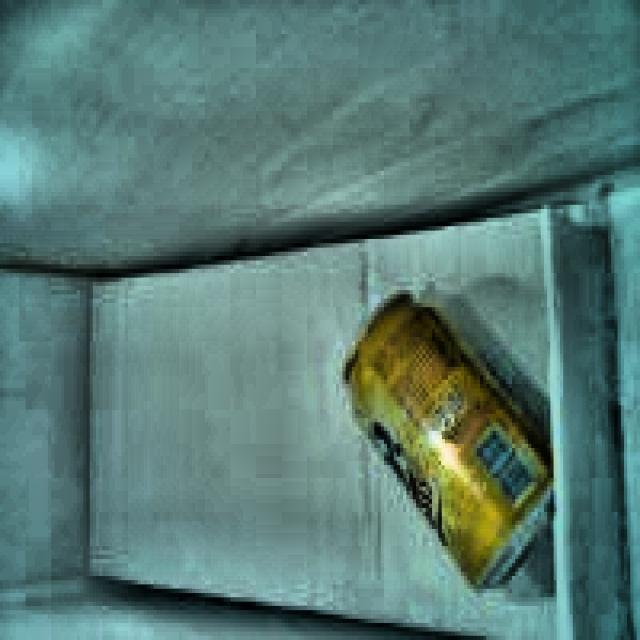Cans: (323, 272, 554, 618)
